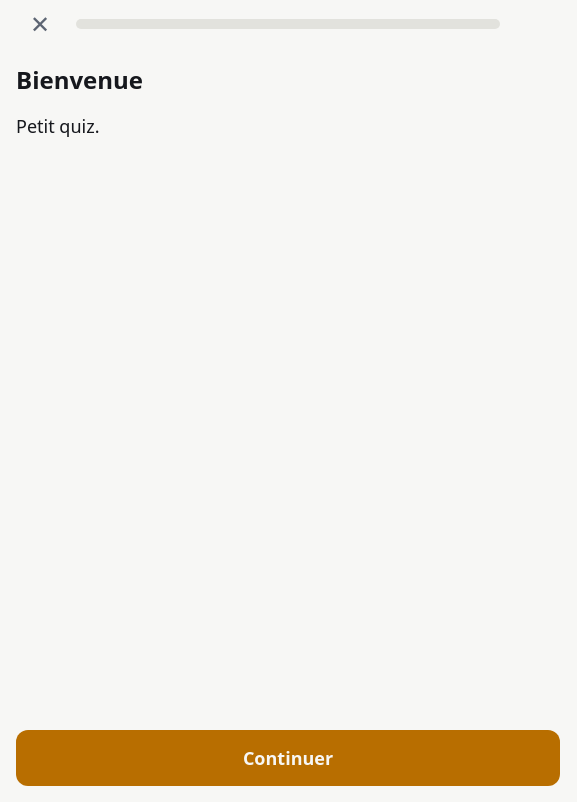
it: LessonRunner — « Quelle est cette note ? » › termine la leçon, affiche le score et l’enregistre
The image size is (577, 802).
Click the button "Continuer": (288, 758) left=16, top=730, right=560, bottom=786
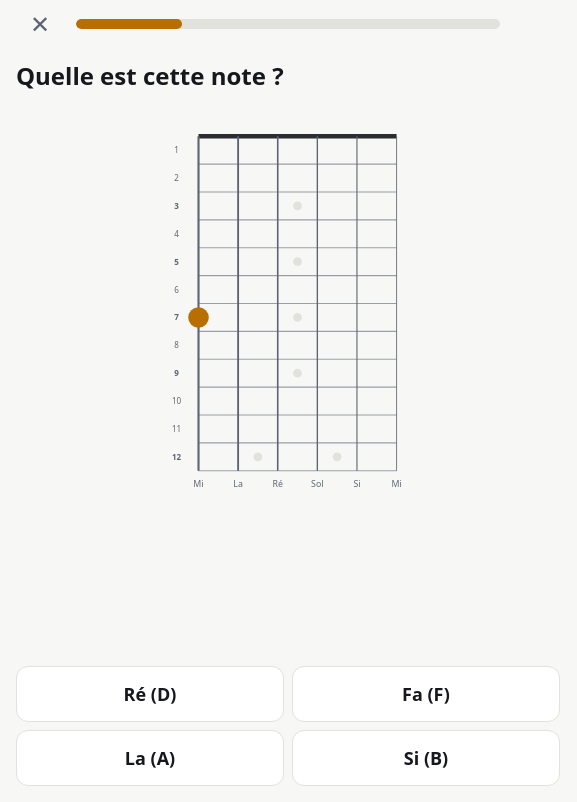
Click the button "Si (B)": (426, 758) left=292, top=730, right=560, bottom=786
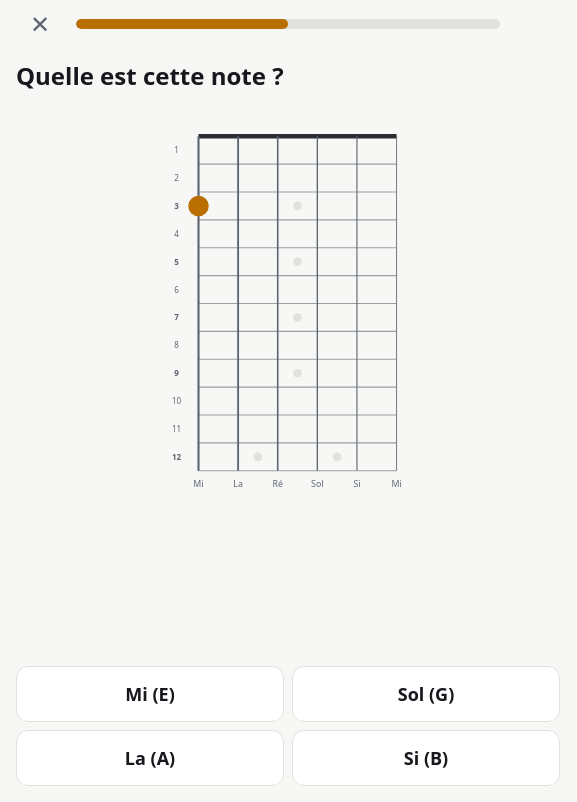
Click the button "Sol (G)": (426, 694) left=292, top=666, right=560, bottom=722
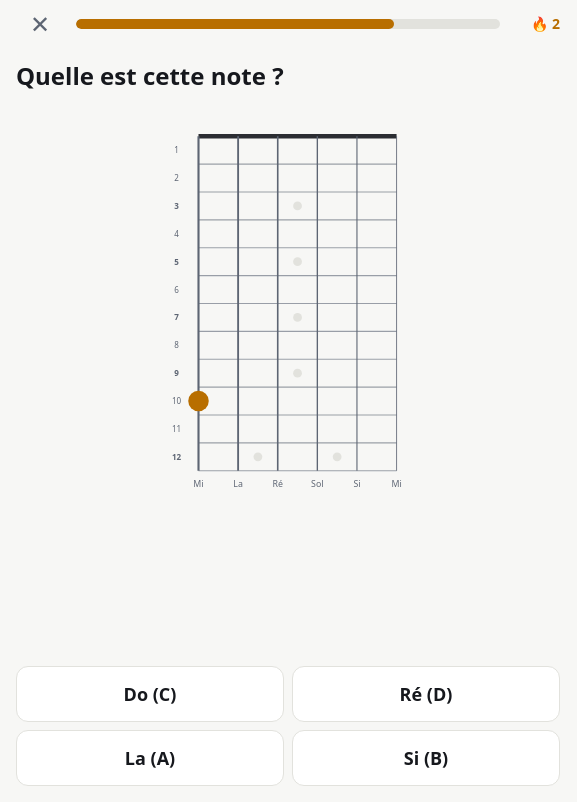
Click the button "Ré (D)": (426, 694) left=292, top=666, right=560, bottom=722
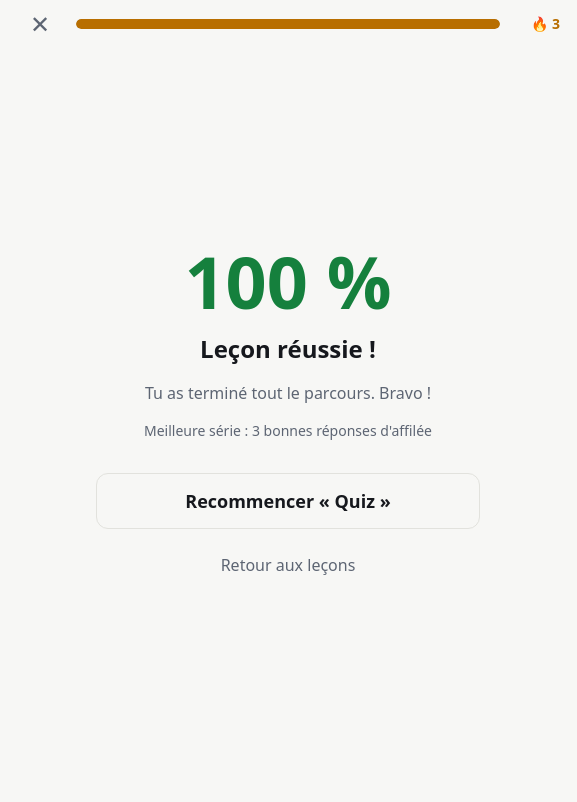
Result: the element with test id "lesson-result" shows "100 %" at left=96, top=232, right=480, bottom=576
Result: the heading "Leçon réussie !" is shown at left=200, top=333, right=376, bottom=365
